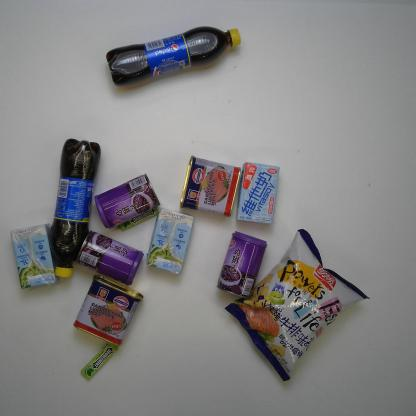Canned Food: (73, 274, 143, 346), (75, 229, 145, 287), (179, 154, 242, 218), (94, 172, 162, 230), (215, 230, 268, 300)
Drink: (105, 26, 243, 86), (48, 137, 101, 279)
Gum: (80, 342, 118, 380), (116, 206, 160, 231)
Milk: (145, 207, 195, 275), (11, 223, 60, 290), (236, 161, 280, 225)
Puffed Food: (224, 228, 371, 382)
